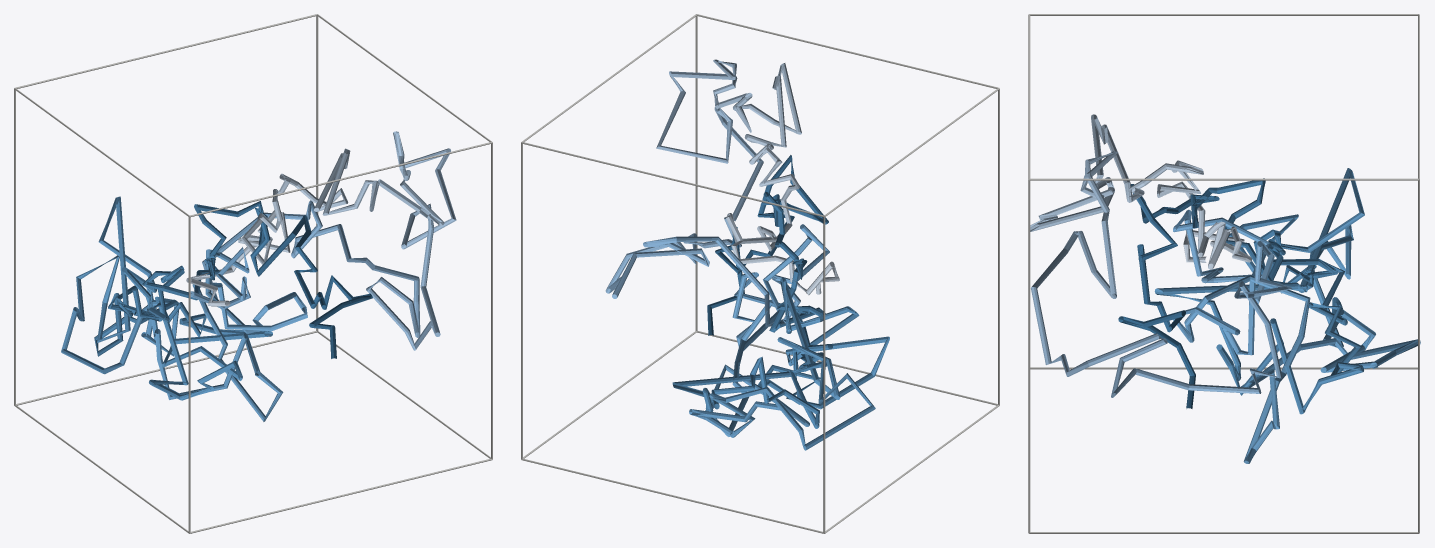
3 renders of one model, left to right at view 1: azimuth 30°, elevation 25°; view 2: azimuth 150°, elevation 25°; view 3: azimuth 270°, elevation 25°, orthographic. The views are drawn at different scales.
Parts seen in each view (by area): view 1: geometry_0, geometry_1; view 2: geometry_0, geometry_1; view 3: geometry_0, geometry_1.
Part boxes in pixels (x1,y1,x2,y2): geometry_0: [61, 131, 456, 421]; geometry_1: [14, 14, 492, 533]; geometry_0: [605, 59, 889, 450]; geometry_1: [521, 14, 999, 533]; geometry_0: [1030, 114, 1420, 463]; geometry_1: [1028, 14, 1419, 533].
Size of the model in its own units: 0.3043 by 0.3032 by 0.3021.
